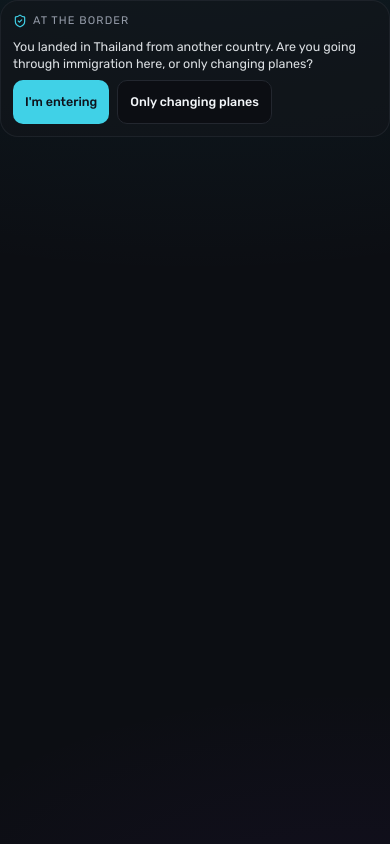
Test case: EntryReadiness card › shows the free official TDAC link and the imitation warning once known
Click the button "I'm entering".
click(61, 102)  # box [13,80,109,124]
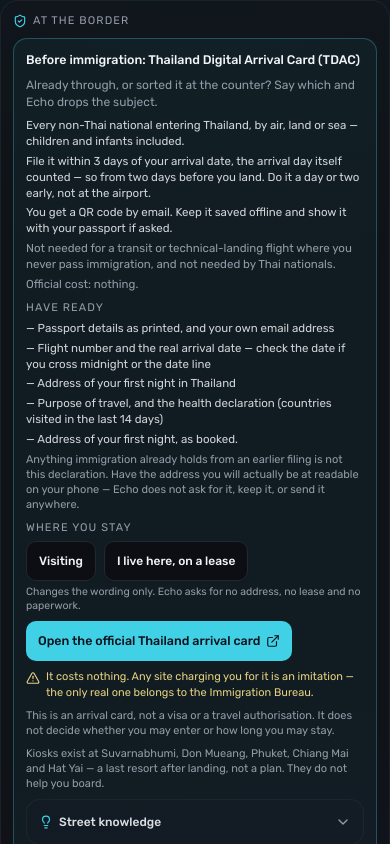
expect the text "costs nothing" is shown: met, box [46,670,354,698]
expect the text "not a visa" is shown: met, box [26,709,352,737]
